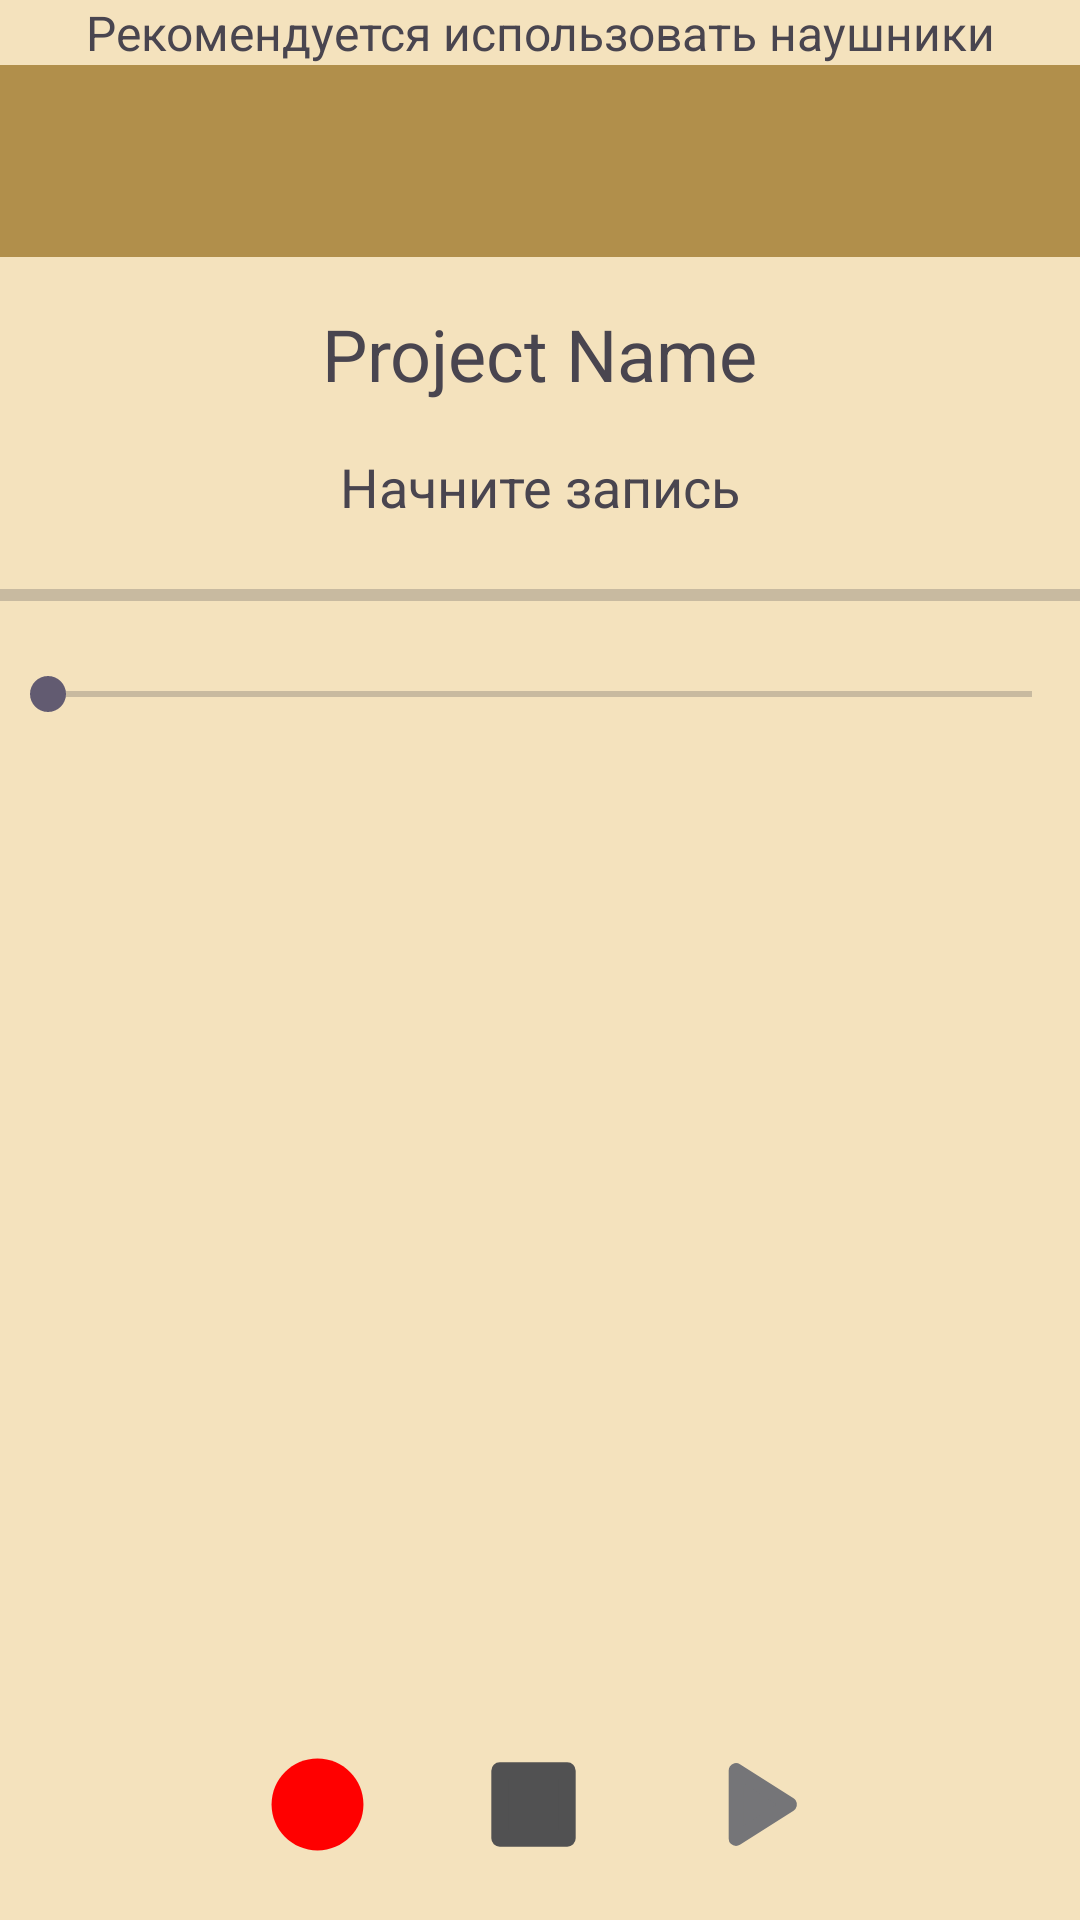

Icon click points for this 1080px×1920px phone screenshot, format (x,y):
play all: (762,1804)
stop recording: (533,1804)
